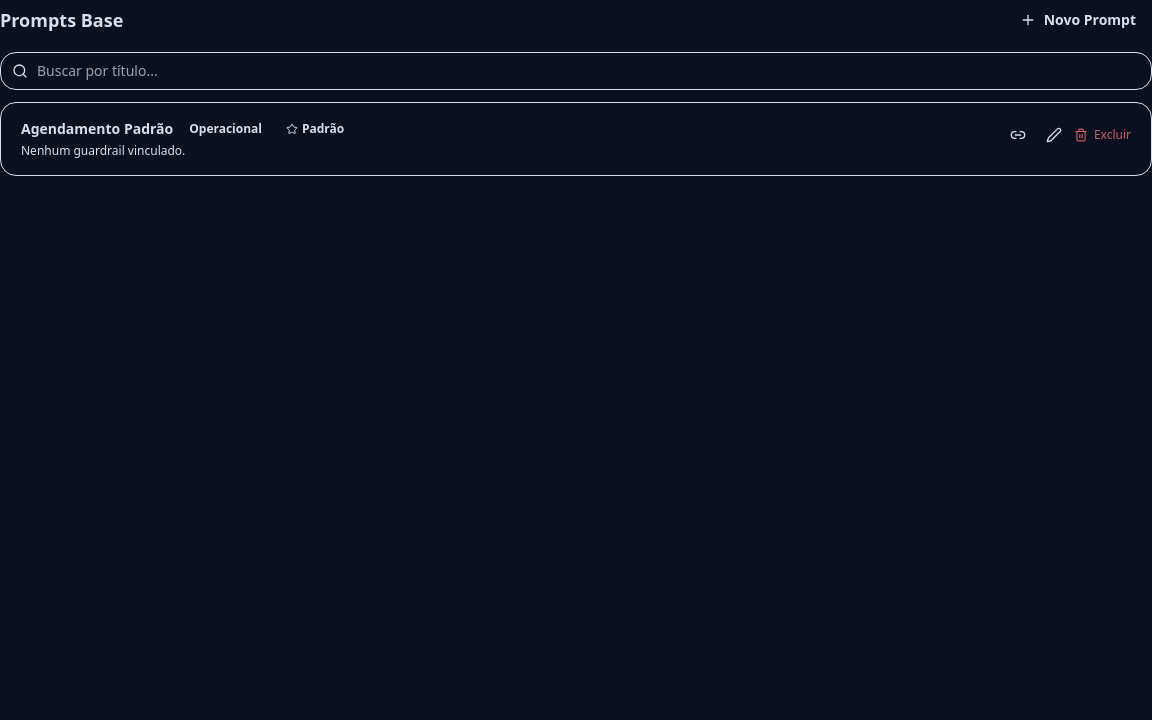
Scenario: PromptList › cancelling the confirmation dialog does not delete
Click the button with aria-label "Excluir Agendamento Padrão" at (1102, 135), box [1074,127,1131,143]
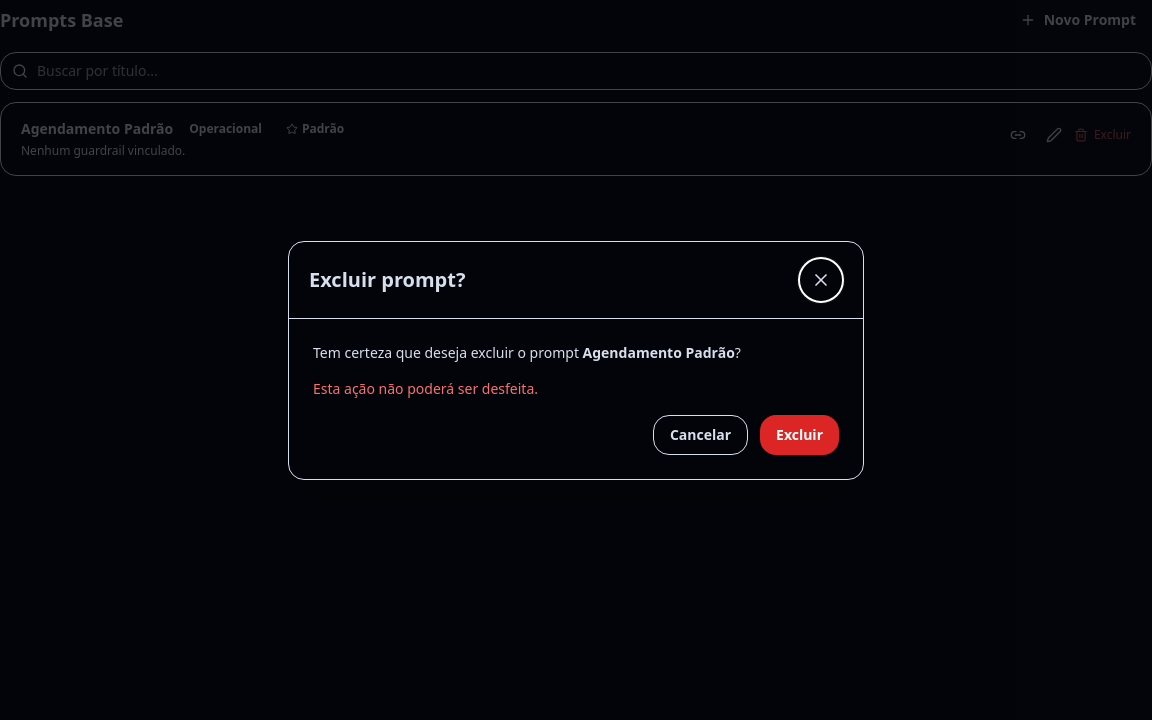
Click the button "Cancelar" at (700, 434), box [653,414,748,454]
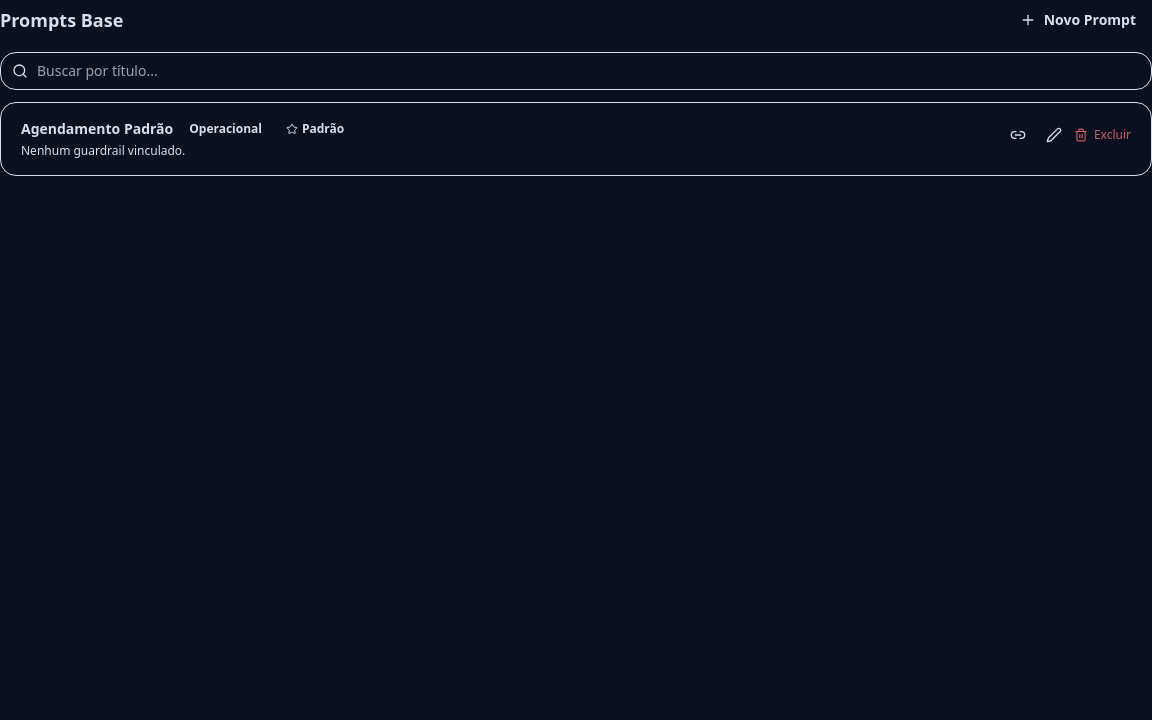
Check: the heading "Excluir prompt?" is gone
